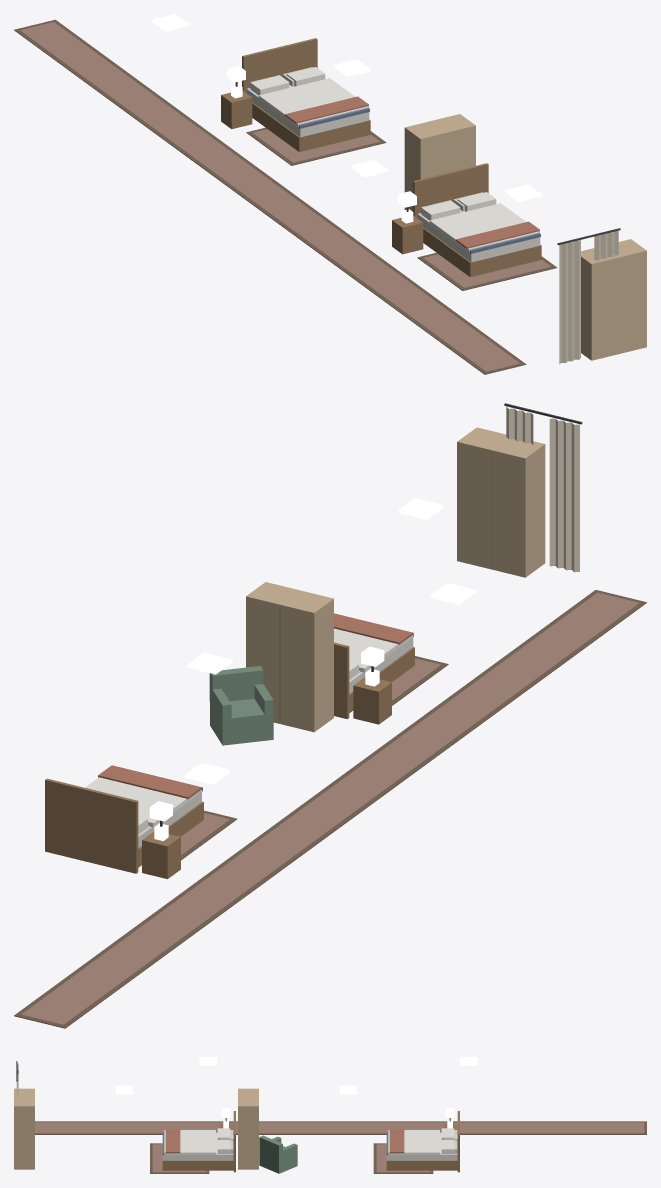
The model's file is fine-s2.glb.
3 views of the same model, one above another, from view 1: azimuth 30°, elevation 25°; view 2: azimuth 150°, elevation 25°; view 3: azimuth 270°, elevation 25° (orthographic). The views are drawn at different scales.
Parts seen in each view (by area): view 1: soft-s2, dresser.003, bed-frame.002, bed-frame.003, dresser.002, nightstand.003, nightstand.002; view 2: soft-s2, dresser.003, dresser.002, bed-frame.002, lounge-chair.001, bed-frame.003, nightstand.003, nightstand.002; view 3: soft-s2, dresser.002, dresser.003, bed-frame.002, bed-frame.003, lounge-chair.001.
Boxes of the visible parts, <box> form: soft-s2: <box>14,19,620,374</box>; dresser.003: <box>581,239,646,360</box>; bed-frame.002: <box>242,38,370,151</box>; bed-frame.003: <box>413,163,541,277</box>; dresser.002: <box>404,114,475,211</box>; nightstand.003: <box>392,209,423,254</box>; nightstand.002: <box>221,84,252,129</box>; soft-s2: <box>14,403,646,1028</box>; dresser.003: <box>457,427,545,577</box>; dresser.002: <box>246,582,333,732</box>; bed-frame.002: <box>45,778,203,873</box>; lounge-chair.001: <box>209,666,273,745</box>; bed-frame.003: <box>334,632,414,719</box>; nightstand.003: <box>353,668,391,724</box>; nightstand.002: <box>142,823,180,879</box>; soft-s2: <box>16,1061,646,1173</box>; dresser.002: <box>238,1088,258,1169</box>; dresser.003: <box>14,1088,34,1169</box>; bed-frame.002: <box>386,1111,459,1172</box>; bed-frame.003: <box>162,1111,235,1172</box>; lounge-chair.001: <box>259,1135,297,1173</box>.
Bounding box in the file's own units: 3.55 × 2.56 × 18.13.
